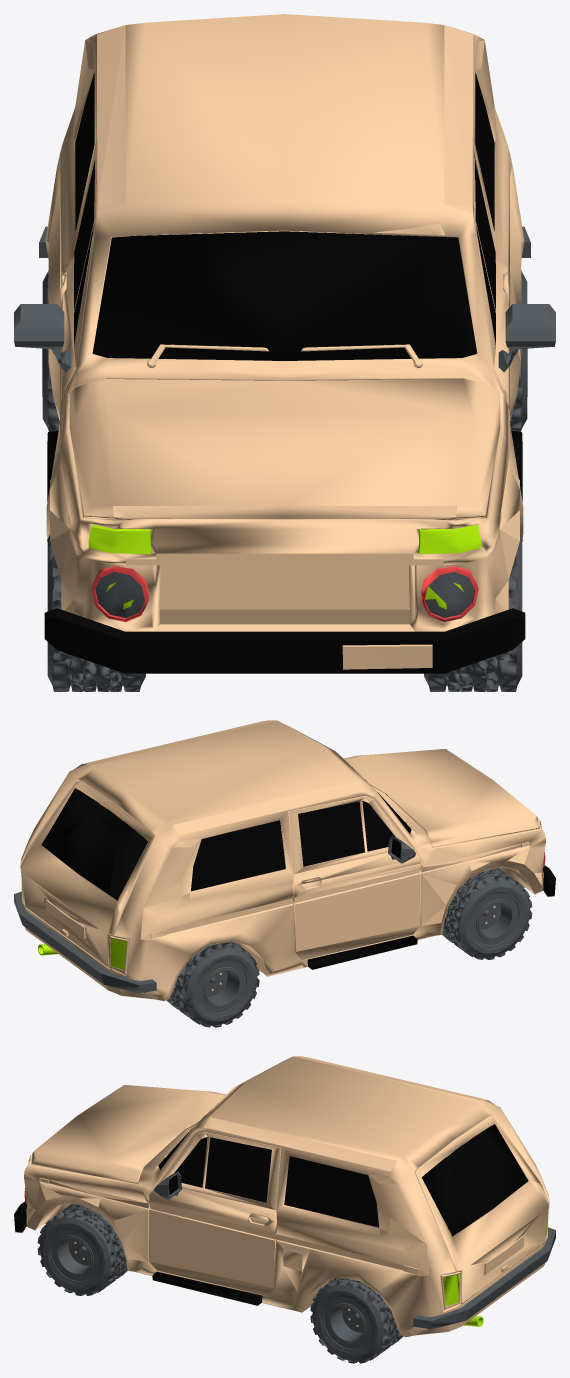
The model's file is Toy196.fbx.
3 renders of one model, top to bottom at view 1: azimuth 30°, elevation 25°; view 2: azimuth 150°, elevation 25°; view 3: azimuth 270°, elevation 25°, orthographic. The views are drawn at different scales.
Parts seen in each view (by area): view 1: Toy196; view 2: Toy196; view 3: Toy196.
Boxes of the visible parts, <box> form: Toy196: <box>14,14,555,691</box>; Toy196: <box>14,720,555,1027</box>; Toy196: <box>14,1056,555,1363</box>.
Bounding box in the file's own units: 0.174 × 0.0837 × 0.2069.
